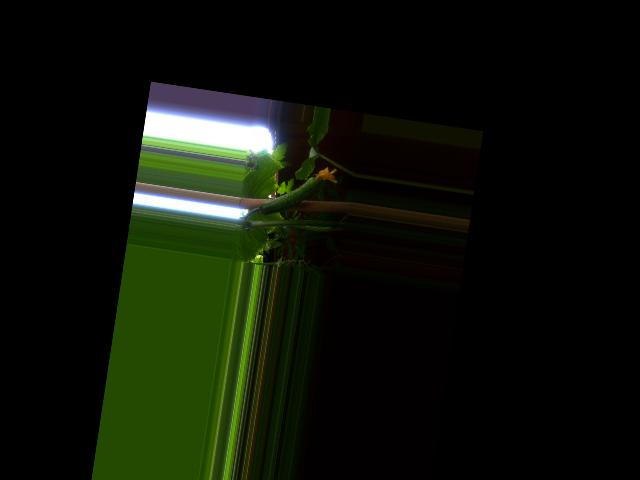cucumber: (258, 157, 339, 224)
